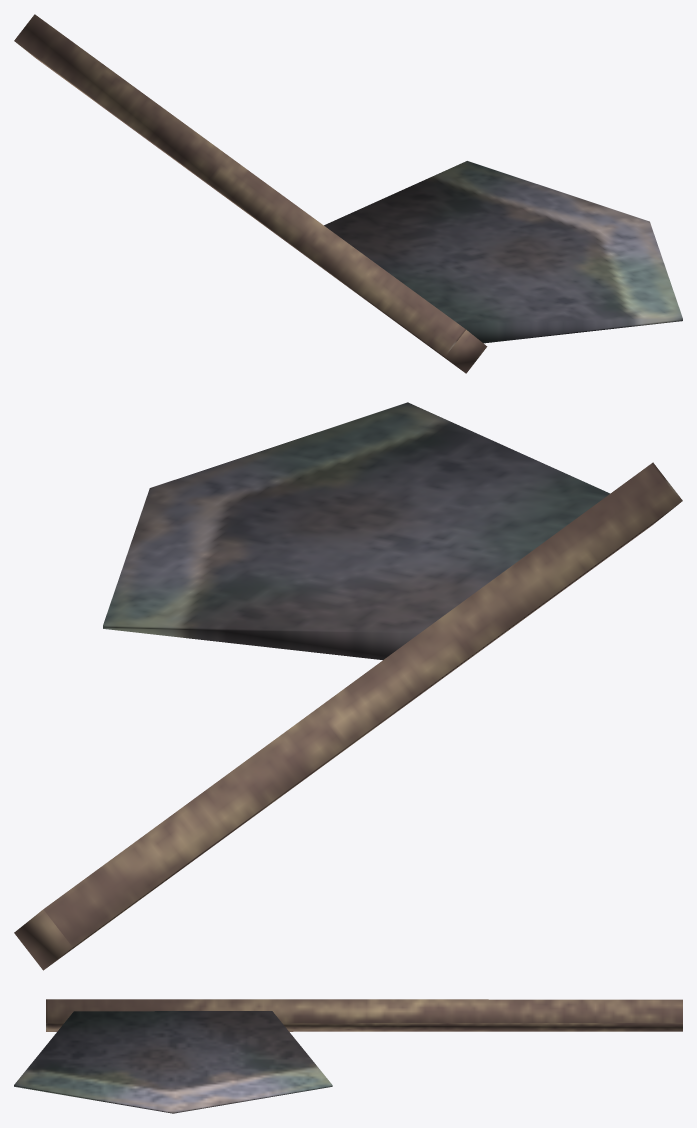
The model's file is FBX_NoleWarrior_Axe.fbx.
The picture shows the model from 3 angles, top to bottom: view 1: azimuth 30°, elevation 25°; view 2: azimuth 150°, elevation 25°; view 3: azimuth 270°, elevation 25°; orthographic projection. The views are drawn at different scales.
Visible parts, largest first — view 1: MSH_NoleWarrior_Axe; view 2: MSH_NoleWarrior_Axe; view 3: MSH_NoleWarrior_Axe.
Boxes of the visible parts, bbox=[...] form: MSH_NoleWarrior_Axe: bbox=[14, 14, 682, 373]; MSH_NoleWarrior_Axe: bbox=[14, 402, 682, 970]; MSH_NoleWarrior_Axe: bbox=[14, 999, 682, 1113].
Bounding box in the file's own units: 38.94 × 5.66 × 105.
